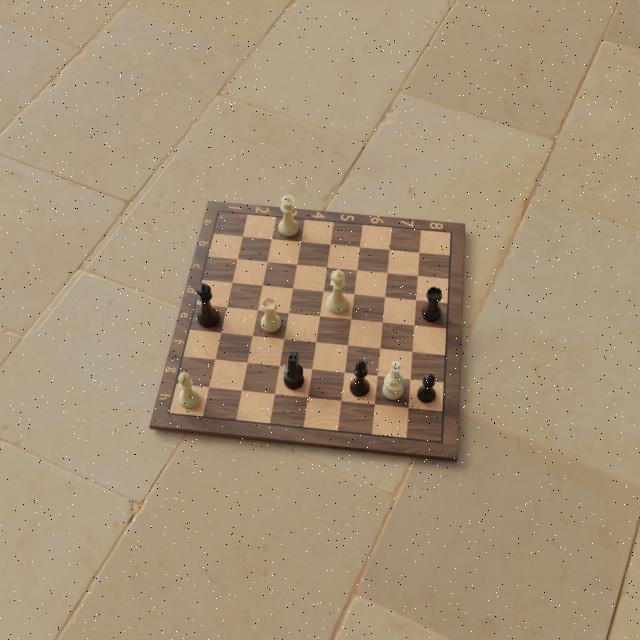black-bishop: (350, 360, 370, 398)
black-king: (195, 283, 220, 329)
black-knight: (283, 350, 304, 392)
black-pawn: (416, 373, 439, 405)
black-rook: (421, 286, 443, 323)
white-bishop: (176, 371, 200, 411)
white-king: (325, 268, 348, 316)
white-knight: (381, 360, 405, 403)
white-queen: (276, 193, 299, 238)
white-rook: (259, 293, 281, 334)
